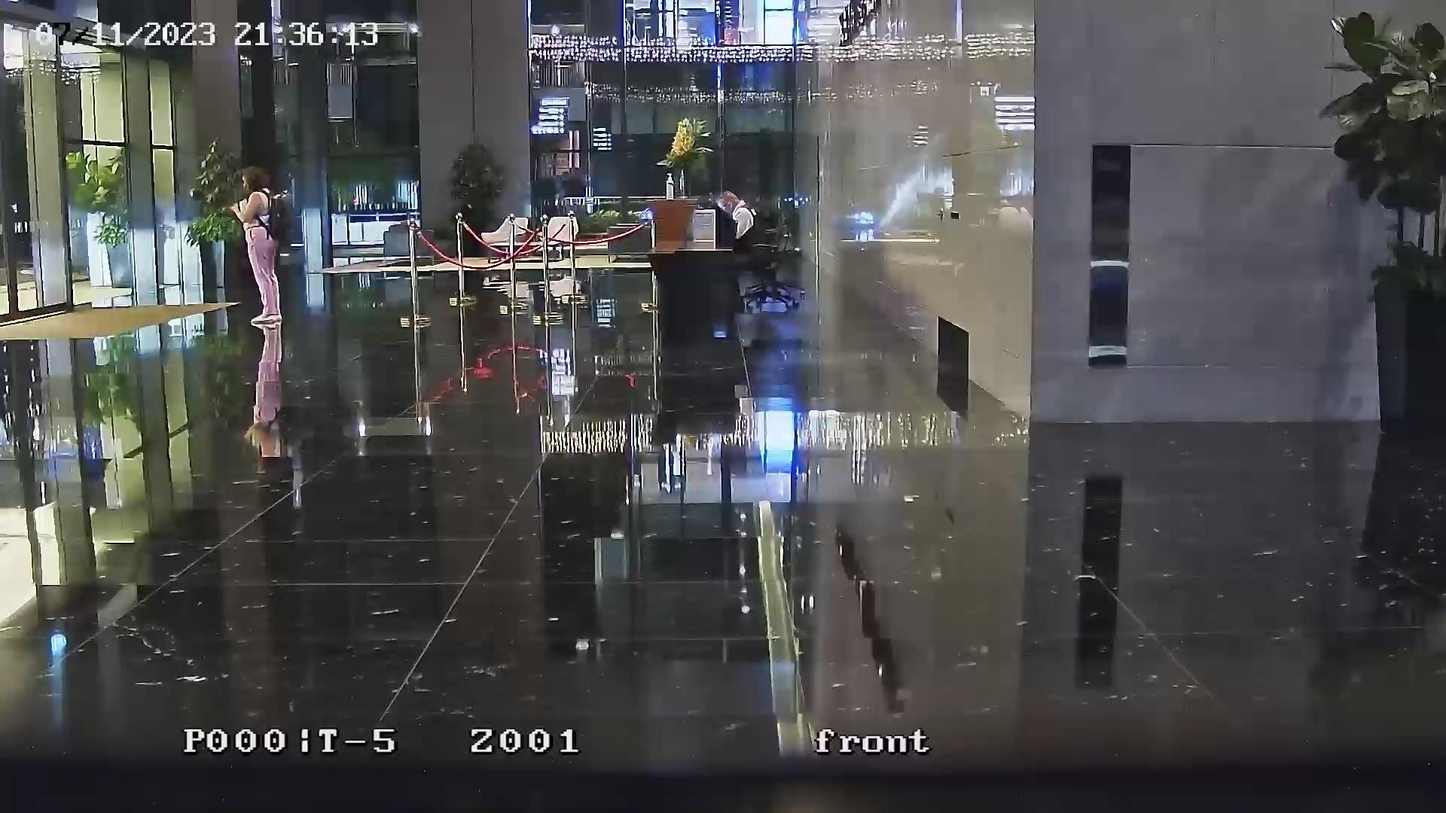person: (229, 167, 288, 327), (719, 192, 768, 267)
